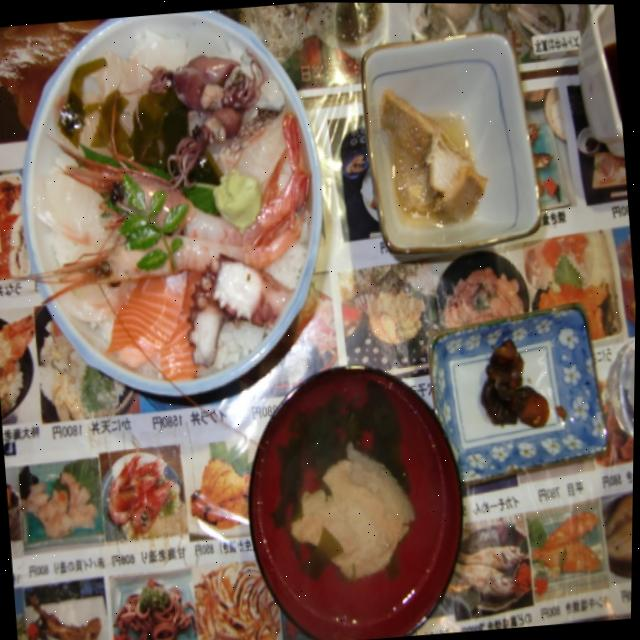刺身生食: (8, 0, 351, 457)
